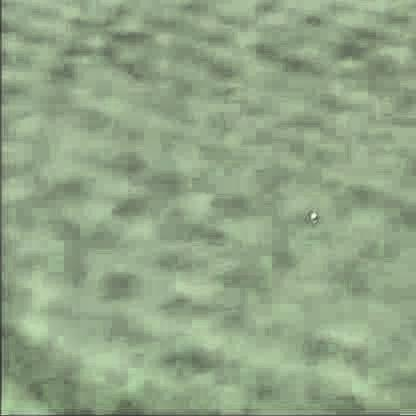golfball: (309, 210, 316, 217)
